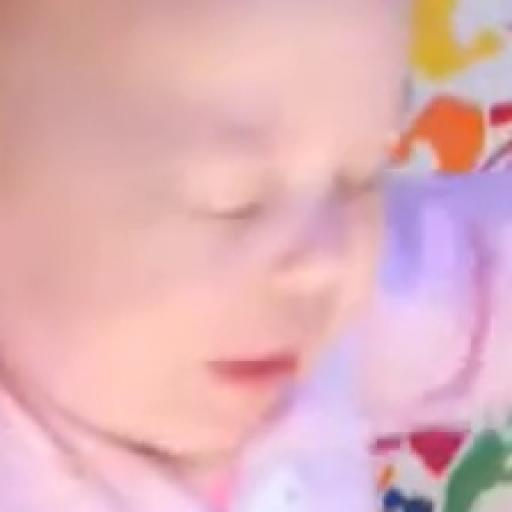Autism: (12, 0, 424, 470)
